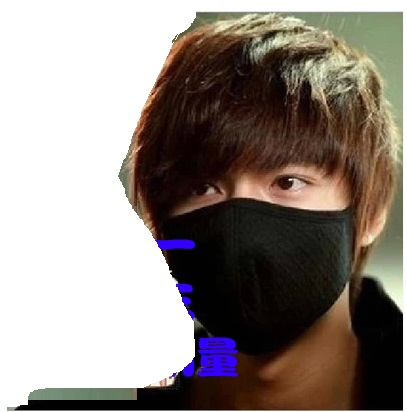face_mask: (164, 102, 350, 333)
